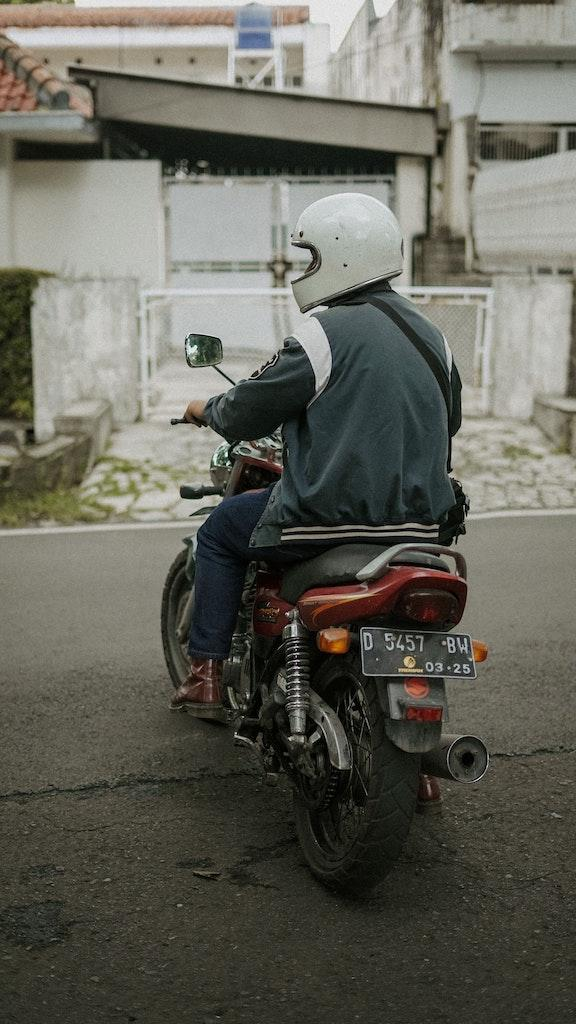helmet: (289, 191, 405, 315)
